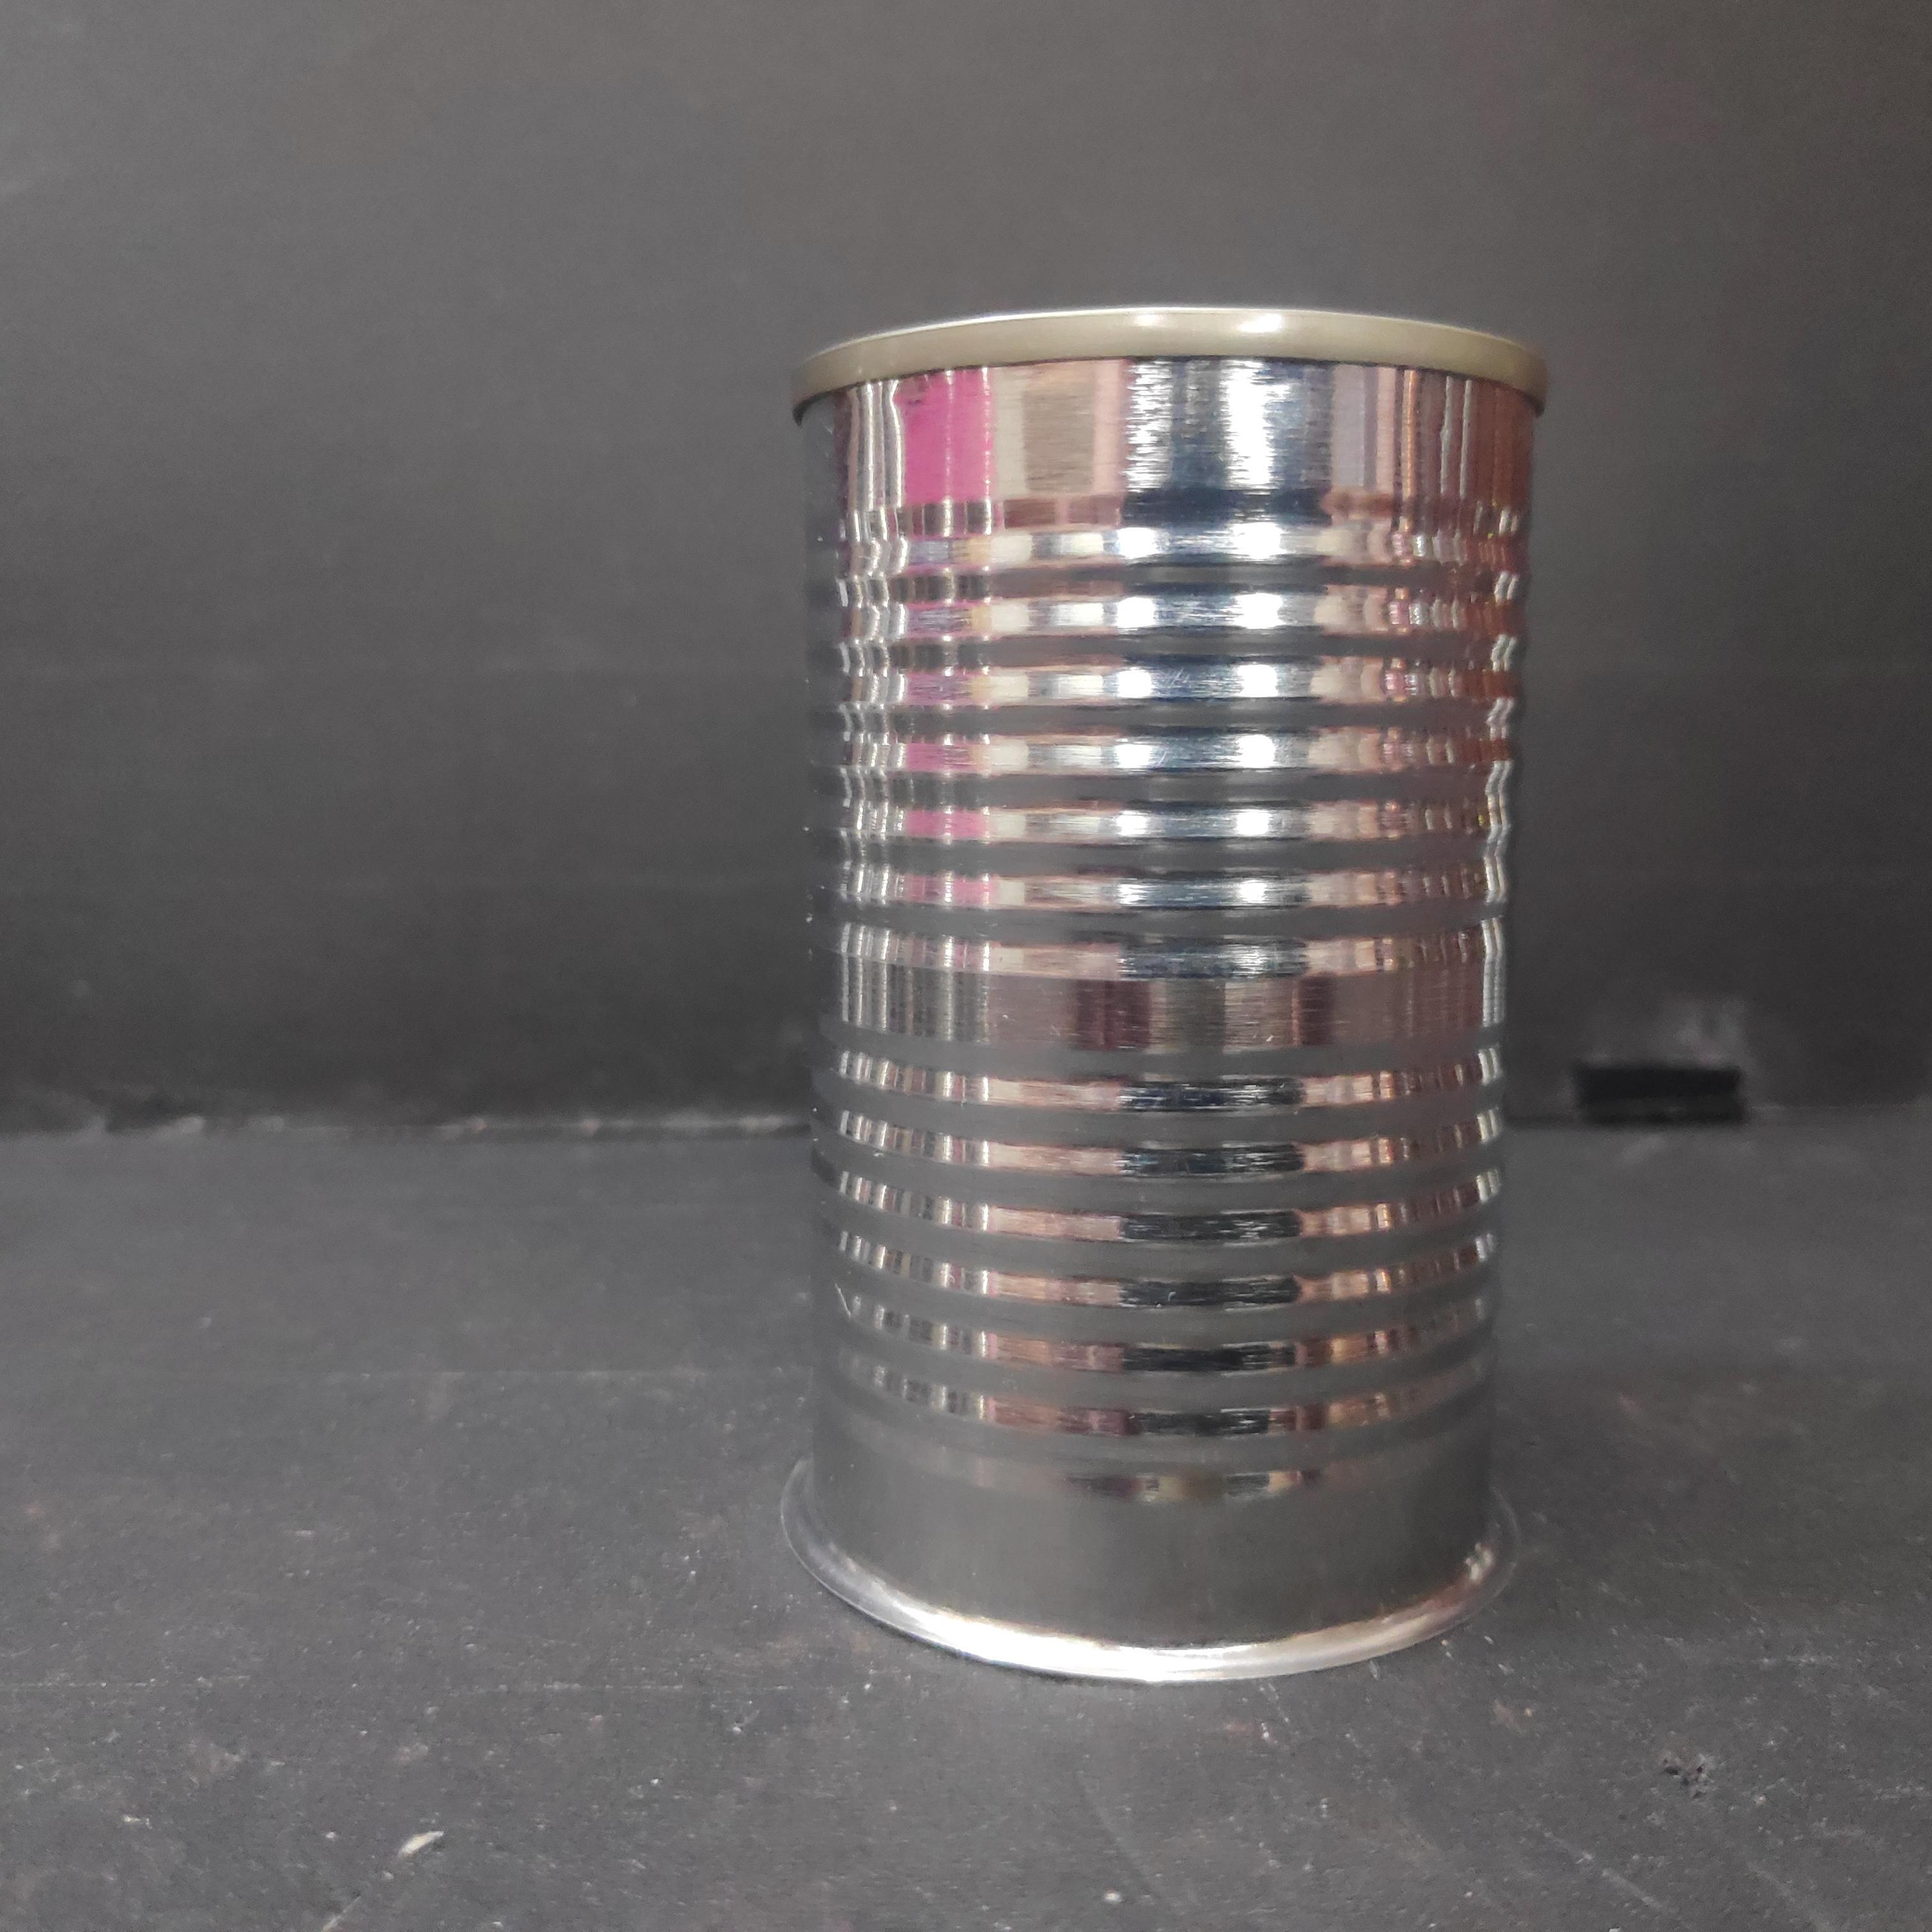No defect: (771, 303, 1559, 1686)
